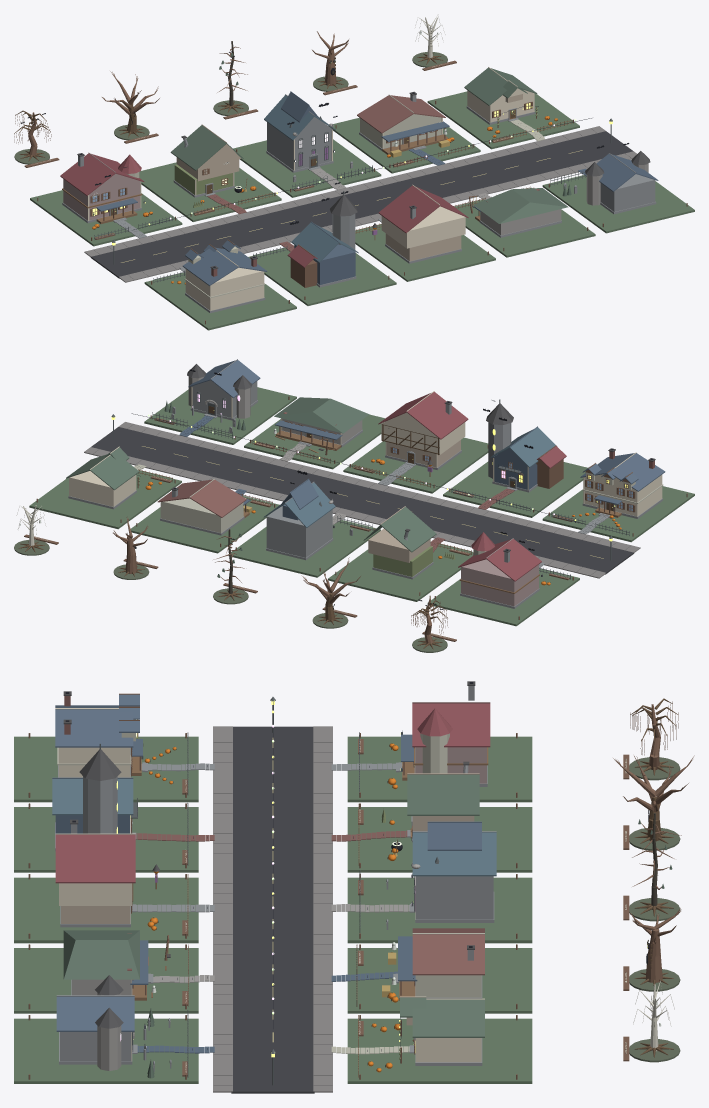
File: HALLOWEEN_STREET_10_HOUSES_5_TREES.glb
3 renders of one model, top to bottom at view 1: azimuth 30°, elevation 25°; view 2: azimuth 150°, elevation 25°; view 3: azimuth 270°, elevation 25°, orthographic. The views are drawn at different scales.
Visible parts, largest first — view 1: DRIVEABLE ROAD | central Halloween street, Public pavement / sidewalk.001, Individual lawn / editable property.001, Individual lawn / editable property.002, Individual lawn / editable property.004, Individual lawn / editable property.009, Individual lawn / editable property.006, Individual lawn / editable property, Individual lawn / editable property.005, Individual lawn / editable property.007, Individual lawn / editable property.008, Public pavement / sidewalk (+28 smaller); view 2: DRIVEABLE ROAD | central Halloween street, Public pavement / sidewalk, Individual lawn / editable property.001, Individual lawn / editable property.004, Individual lawn / editable property.009, Individual lawn / editable property.002, Individual lawn / editable property.006, Individual lawn / editable property.007, Individual lawn / editable property.005, Individual lawn / editable property, Individual lawn / editable property.003, Public pavement / sidewalk.001 (+30 smaller); view 3: DRIVEABLE ROAD | central Halloween street, Individual lawn / editable property.004, Individual lawn / editable property.009, Public pavement / sidewalk, Public pavement / sidewalk.001, Individual lawn / editable property.007, Individual lawn / editable property.002, Individual lawn / editable property.001, Individual lawn / editable property.006, Individual lawn / editable property, Individual lawn / editable property.008, Individual lawn / editable property.005 (+33 smaller).
Part boxes in pixels (x1,y1,x2,y2): DRIVEABLE ROAD | central Halloween street: (90,131,633,278); Public pavement / sidewalk.001: (84,126,605,256); Individual lawn / editable property.001: (139,162,281,221); Individual lawn / editable property.002: (233,139,381,197); Individual lawn / editable property.004: (427,91,579,149); Individual lawn / editable property.009: (542,175,694,233); Individual lawn / editable property.006: (248,248,396,305); Individual lawn / editable property: (30,190,182,246); Individual lawn / editable property.005: (144,272,296,330); Individual lawn / editable property.007: (355,224,495,281); Individual lawn / editable property.008: (454,187,595,257); Public pavement / sidewalk: (119,151,636,282); DRIVEABLE ROAD | central Halloween street: (91,427,634,574); Public pavement / sidewalk: (118,422,640,552); Individual lawn / editable property.001: (328,544,473,601); Individual lawn / editable property.004: (29,470,181,529); Individual lawn / editable property.009: (144,387,296,444); Individual lawn / editable property.002: (228,520,380,577); Individual lawn / editable property.006: (443,461,587,517); Individual lawn / editable property.007: (343,437,488,493); Individual lawn / editable property.005: (542,486,694,542); Individual lawn / editable property: (427,568,579,626); Individual lawn / editable property.003: (130,496,279,553); Public pavement / sidewalk.001: (84,447,605,578); DRIVEABLE ROAD | central Halloween street: (231,726,314,1093); Individual lawn / editable property.004: (347,1018,532,1083); Individual lawn / editable property.009: (14,1018,198,1083); Public pavement / sidewalk: (213,726,232,1092); Public pavement / sidewalk.001: (313,726,332,1092); Individual lawn / editable property.007: (14,877,198,943); Individual lawn / editable property.002: (347,877,532,943); Individual lawn / editable property.001: (347,807,532,872); Individual lawn / editable property.006: (14,807,198,872); Individual lawn / editable property: (347,736,532,802); Individual lawn / editable property.008: (14,948,198,1013); Individual lawn / editable property.005: (14,736,198,802).
Size of the model in its own units: 145 by 21.96 by 114.
